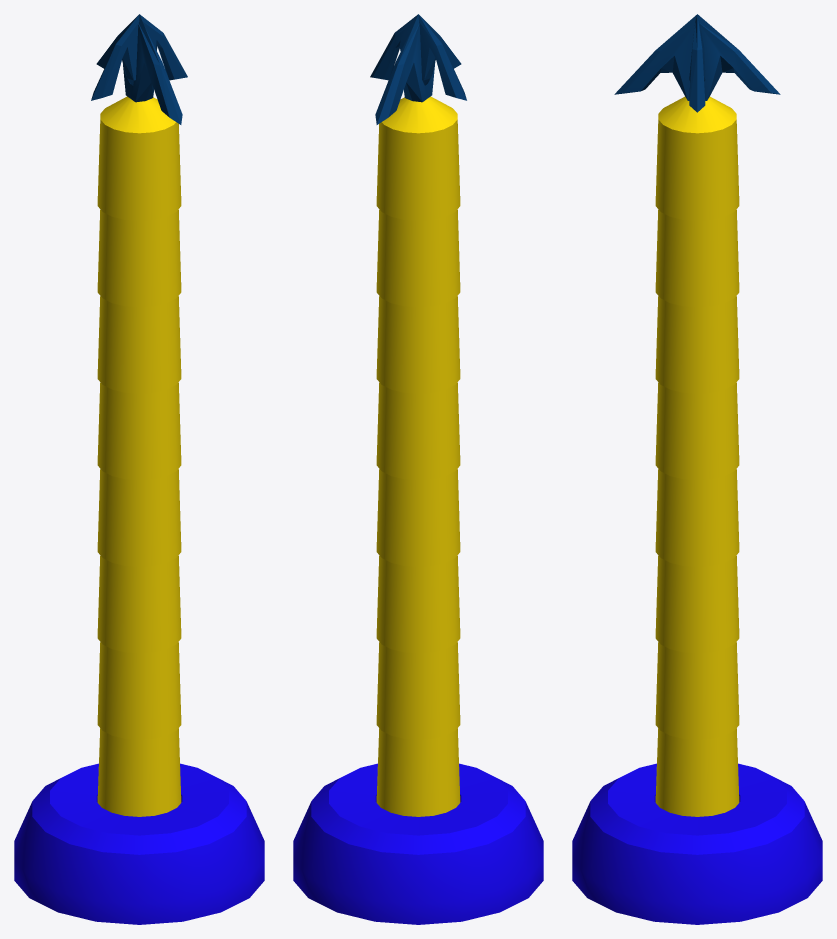
The model's file is PileDriver.FBX.
3 renders of one model, left to right at view 1: azimuth 30°, elevation 25°; view 2: azimuth 150°, elevation 25°; view 3: azimuth 270°, elevation 25°, orthographic.
Visible parts, largest first — view 1: pile_driver_low, wall_structure_low, Blade_low; view 2: pile_driver_low, wall_structure_low, Blade_low; view 3: pile_driver_low, wall_structure_low, Blade_low.
Boxes of the visible parts, bbox=[...] form: pile_driver_low: bbox=[97, 96, 181, 816]; wall_structure_low: bbox=[14, 763, 264, 924]; Blade_low: bbox=[91, 14, 187, 124]; pile_driver_low: bbox=[376, 96, 460, 816]; wall_structure_low: bbox=[293, 763, 543, 924]; Blade_low: bbox=[370, 14, 466, 124]; pile_driver_low: bbox=[655, 96, 739, 816]; wall_structure_low: bbox=[572, 763, 822, 924]; Blade_low: bbox=[614, 14, 780, 112].
Size of the model in its own units: 12.85 by 47.75 by 12.65.
